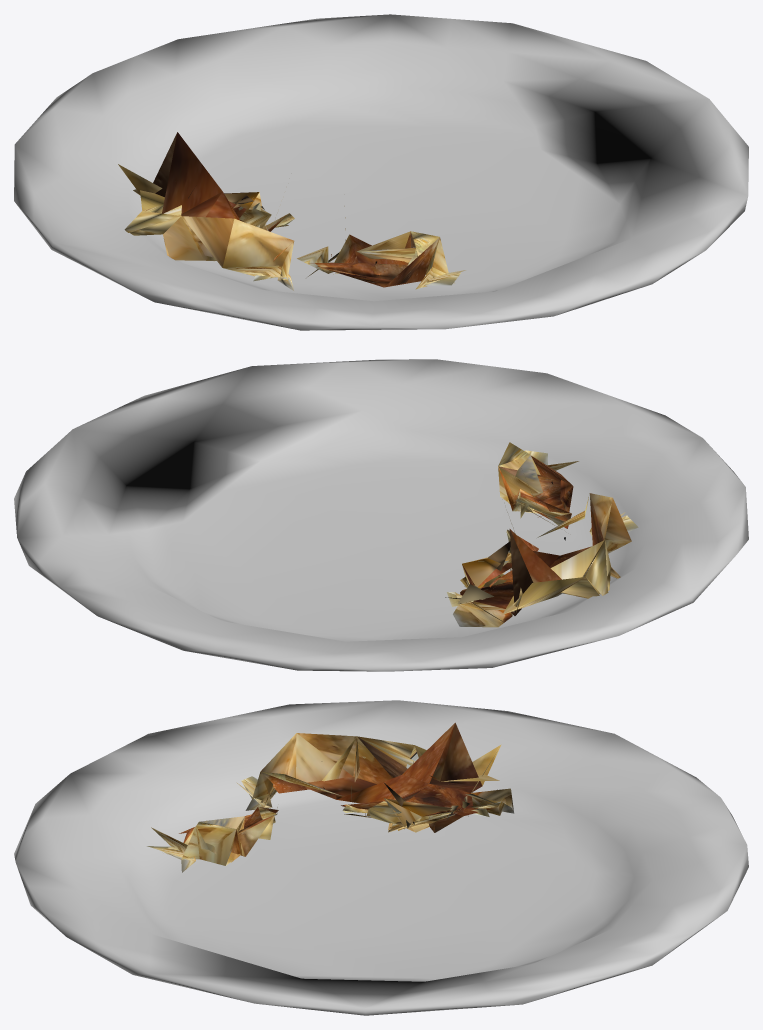
The model's file is plateWithFood2Eaten3.fbx.
3 renders of one model, top to bottom at view 1: azimuth 30°, elevation 25°; view 2: azimuth 150°, elevation 25°; view 3: azimuth 270°, elevation 25°, orthographic.
Parts seen in each view (by area): view 1: plate, Dish_Circle, Dish_Circle.001; view 2: plate, Dish_Circle, Dish_Circle.001; view 3: plate, Dish_Circle, Dish_Circle.001.
Boxes of the visible parts, <box> form: plate: <box>14,14,748,330</box>; Dish_Circle: <box>118,132,294,290</box>; Dish_Circle.001: <box>297,206,465,289</box>; plate: <box>14,359,748,671</box>; Dish_Circle: <box>445,493,638,627</box>; Dish_Circle.001: <box>498,442,578,528</box>; plate: <box>14,700,748,1015</box>; Dish_Circle: <box>236,722,514,832</box>; Dish_Circle.001: <box>147,785,278,872</box>.
Bounding box in the file's own units: 116 × 16.79 × 116.
